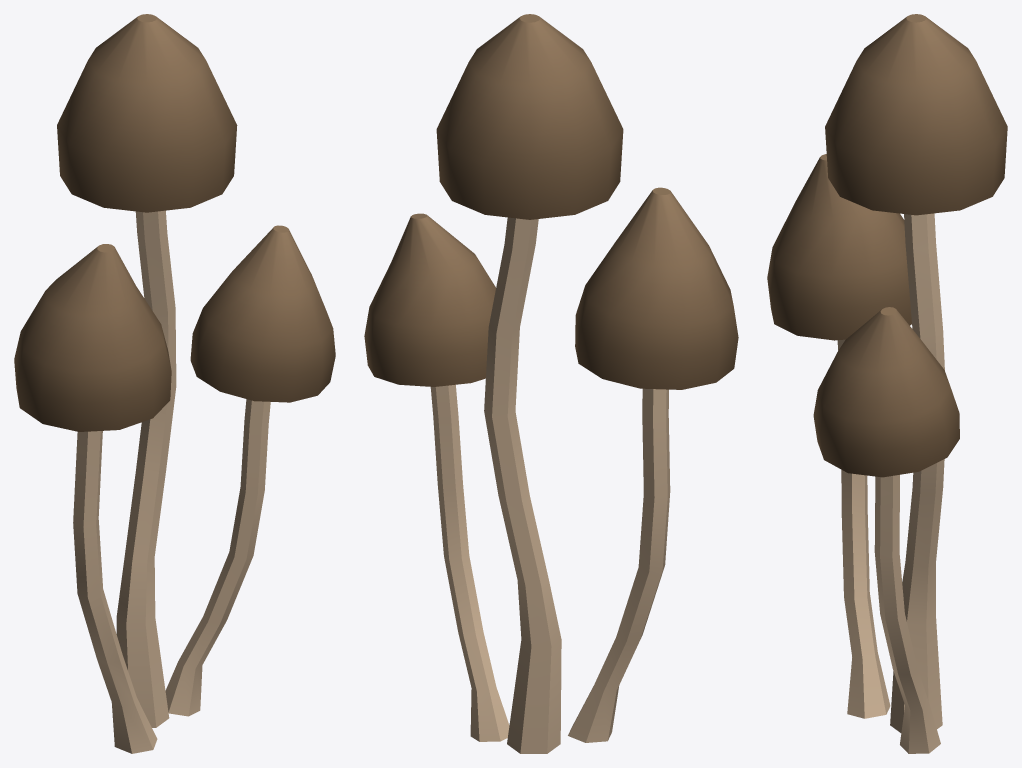
The model's file is Mushoom_09.fbx.
3 views of the same model, side by side, from view 1: azimuth 30°, elevation 25°; view 2: azimuth 150°, elevation 25°; view 3: azimuth 270°, elevation 25° (orthographic). The views are drawn at different scales.
Visible parts, largest first — view 1: Mushoom_09_LOD0; view 2: Mushoom_09_LOD0; view 3: Mushoom_09_LOD0.
Part boxes in pixels (bbox=[...]): Mushoom_09_LOD0: bbox=[14, 14, 335, 753]; Mushoom_09_LOD0: bbox=[364, 14, 738, 753]; Mushoom_09_LOD0: bbox=[767, 14, 1007, 753].
Size of what is drawn, in the model's own units: 0.0951 by 0.1986 by 0.0609.
